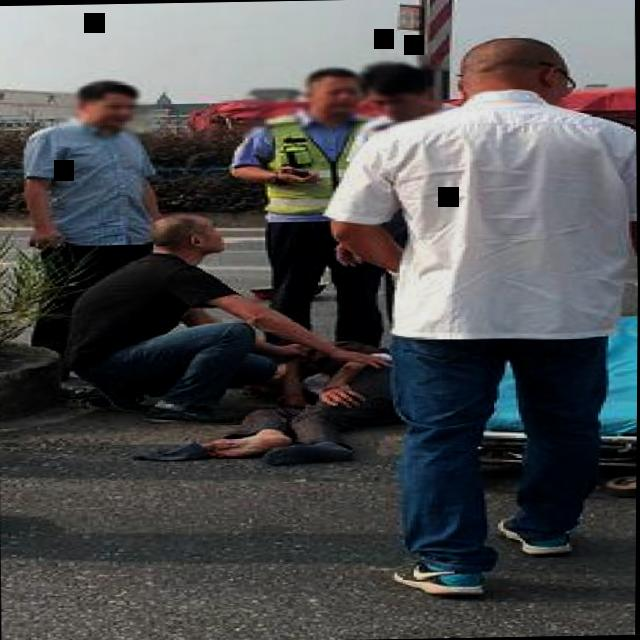Fall-Detected: (126, 316, 442, 476)
